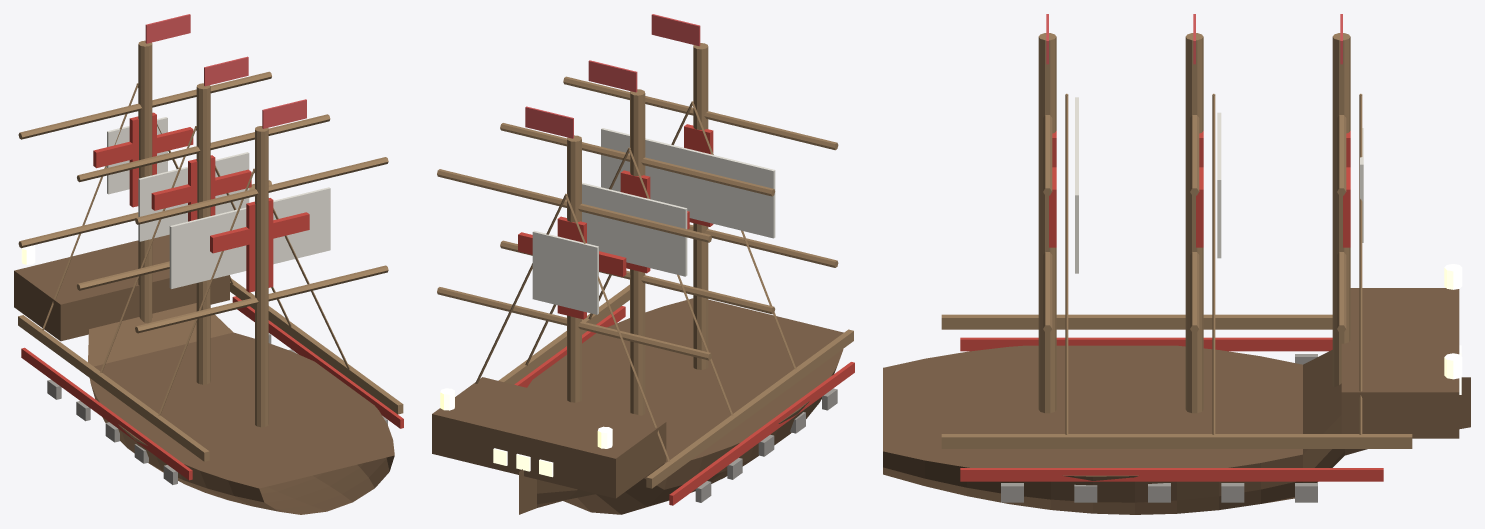
Rendered from ship_large.glb.
The picture shows the model from 3 angles, left to right: view 1: azimuth 30°, elevation 25°; view 2: azimuth 150°, elevation 25°; view 3: azimuth 270°, elevation 25°; orthographic projection. The views are drawn at different scales.
Visible parts, largest first — view 1: ship_large; view 2: ship_large; view 3: ship_large.
Boxes of the visible parts, x1,y1,x2,y2 form: ship_large: (14, 14, 403, 514); ship_large: (432, 14, 854, 514); ship_large: (883, 14, 1470, 514).
Bounding box in the file's own units: 1.43 × 2.07 × 2.3.
